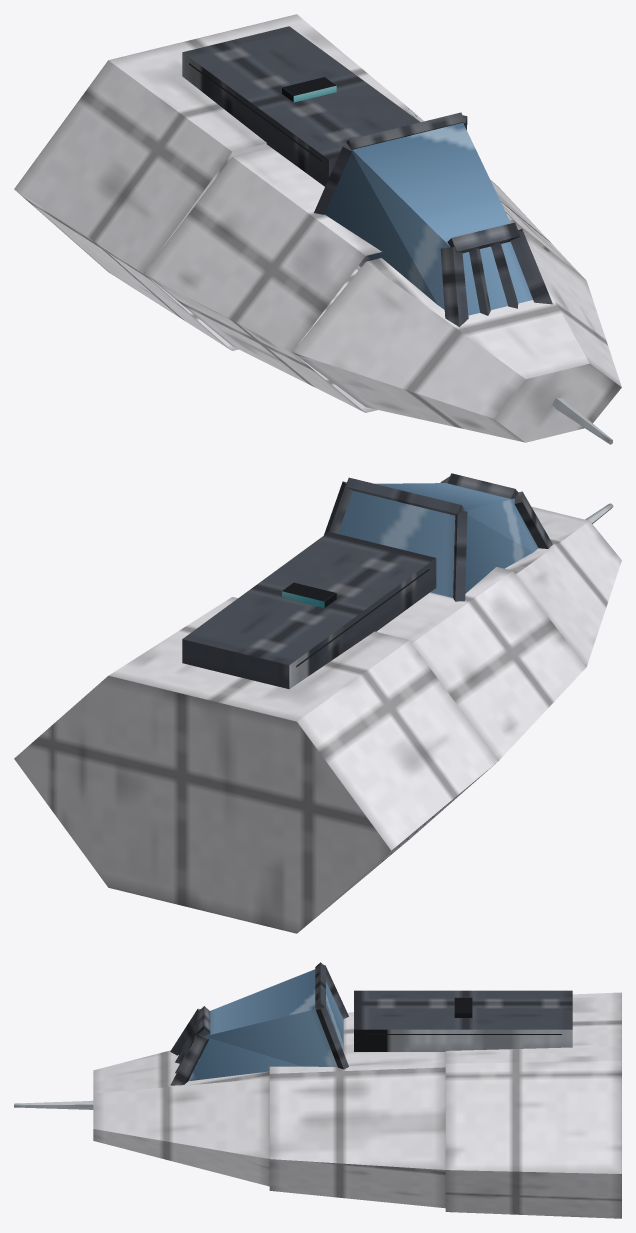
The model's file is ship_survey_cockpit.obj.
The picture shows the model from 3 angles, top to bottom: view 1: azimuth 30°, elevation 25°; view 2: azimuth 150°, elevation 25°; view 3: azimuth 270°, elevation 25°; orthographic projection. The views are drawn at different scales.
Visible parts, largest first — view 1: hull, canopy, spine, frame, leds, probe; view 2: hull, spine, canopy, frame, leds; view 3: hull, spine, canopy, frame, probe, leds.
Boxes of the visible parts, left/top/right/bottom form: hull: left=14, top=14, right=621, bottom=442; canopy: left=324, top=123, right=532, bottom=315; spine: left=182, top=26, right=419, bottom=186; frame: left=314, top=112, right=552, bottom=326; leds: left=282, top=77, right=336, bottom=102; probe: left=552, top=398, right=612, bottom=444; hull: left=14, top=506, right=621, bottom=933; spine: left=182, top=532, right=436, bottom=689; canopy: left=338, top=483, right=538, bottom=597; frame: left=324, top=473, right=552, bottom=601; leds: left=282, top=582, right=336, bottom=607; hull: left=93, top=992, right=621, bottom=1218; spine: left=354, top=990, right=572, bottom=1051; canopy: left=188, top=969, right=343, bottom=1081; frame: left=170, top=962, right=348, bottom=1085; probe: left=14, top=1100, right=93, bottom=1109; leds: left=454, top=997, right=472, bottom=1017.
Size of the model in its own units: 1.84 by 1.26 by 3.45.
5 materials, 5 textured.
